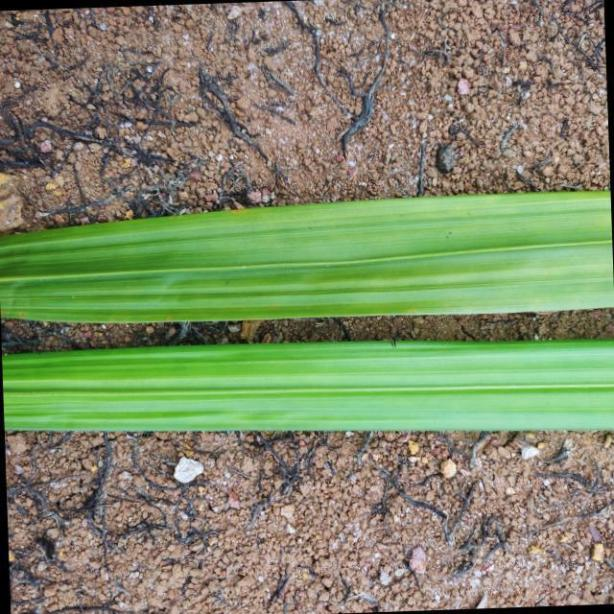nitrogen: (0, 184, 614, 324), (0, 337, 614, 432)
